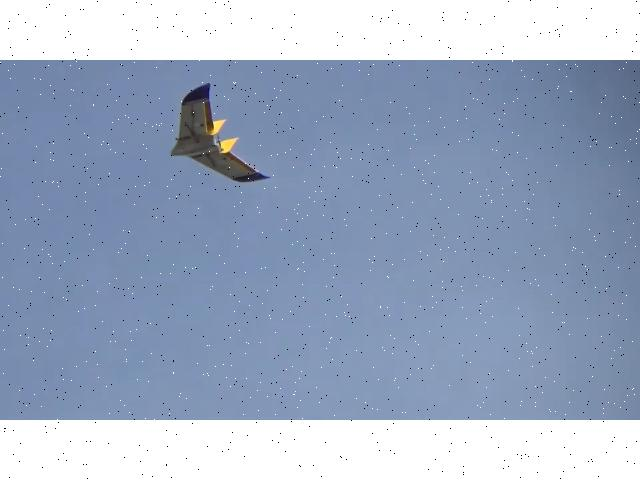Anti-Drone: (171, 83, 269, 183)
